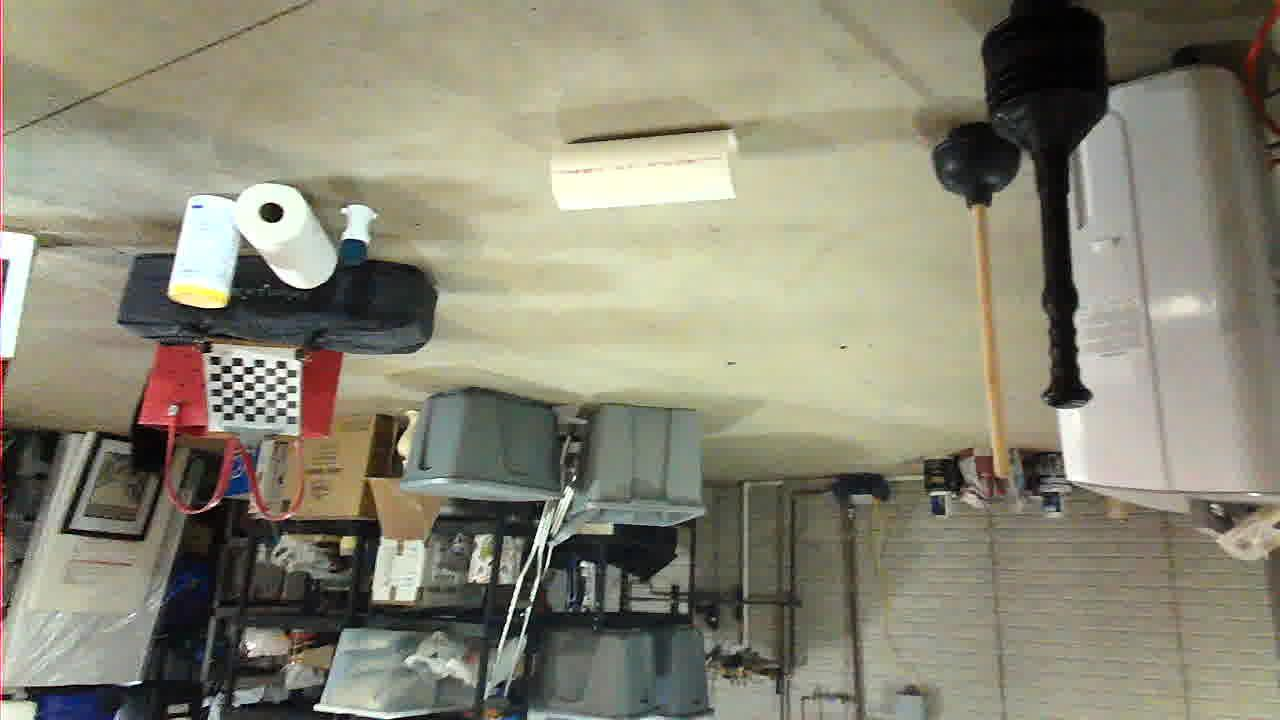coral: (540, 510, 730, 592)
